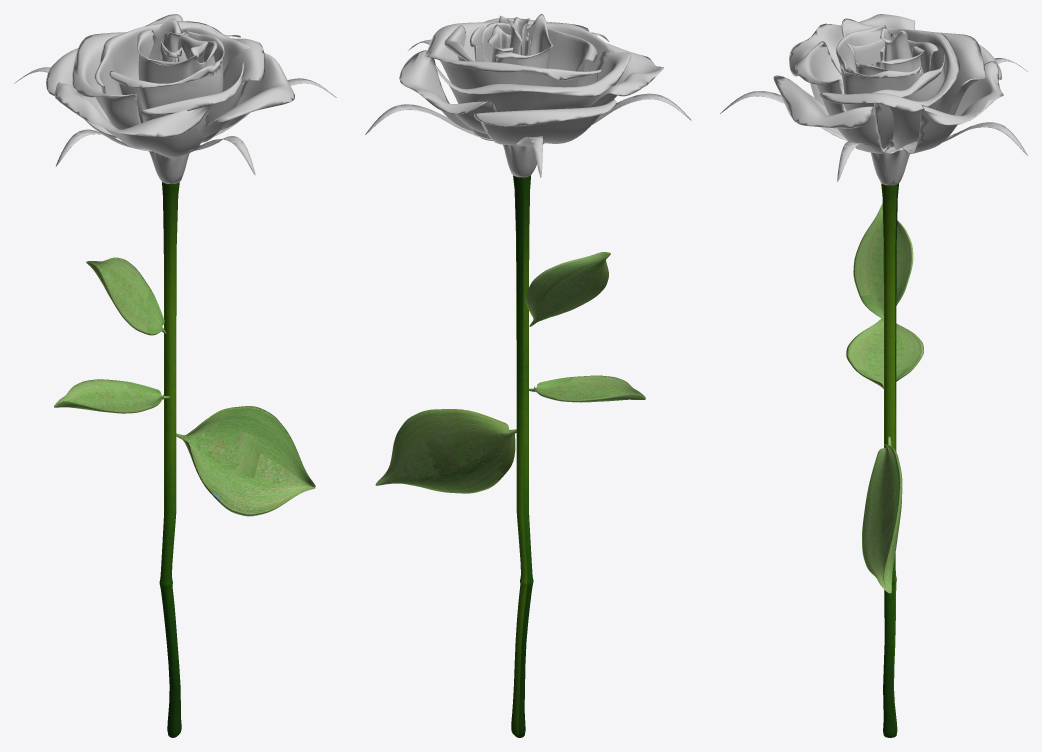
File: rose_model.fbx
3 views of the same model, side by side, from view 1: azimuth 30°, elevation 25°; view 2: azimuth 150°, elevation 25°; view 3: azimuth 270°, elevation 25° (orthographic).
Parts seen in each view (by area): view 1: Mesh, pCube1, pCylinder1, pCube2, pCube3; view 2: Mesh, pCube1, pCylinder1, pCube2, pCube3; view 3: Mesh, pCylinder1, pCube1, pCube2, pCube3.
Boxes of the visible parts, x1,y1,x2,y2 form: Mesh: [14, 14, 336, 183]; pCube1: [176, 406, 315, 516]; pCylinder1: [159, 182, 181, 737]; pCube2: [86, 257, 166, 335]; pCube3: [54, 379, 170, 413]; Mesh: [365, 14, 691, 177]; pCube1: [375, 409, 516, 493]; pCylinder1: [511, 175, 533, 737]; pCube2: [525, 252, 610, 326]; pCube3: [529, 375, 645, 402]; Mesh: [720, 14, 1027, 185]; pCylinder1: [881, 183, 898, 737]; pCube1: [862, 436, 902, 593]; pCube2: [853, 204, 913, 318]; pCube3: [846, 318, 923, 388].
Size of the model in its own units: 36.25 by 86.17 by 33.89.
